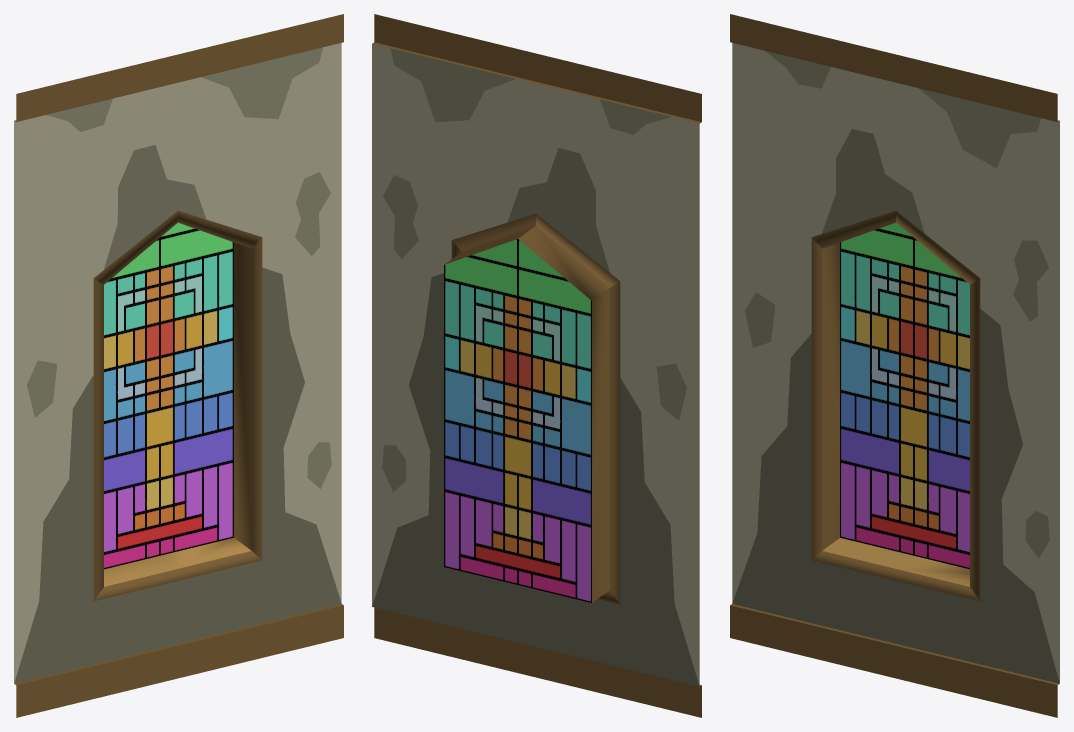
Rendered from AI_Env_Wall_Church_Window_Small_Burnt.fbx.
The picture shows the model from 3 angles, left to right: view 1: azimuth 30°, elevation 25°; view 2: azimuth 150°, elevation 25°; view 3: azimuth 330°, elevation 25°; orthographic projection.
Visible parts, largest first — view 1: AI_Env_Wall_Church_Window_Small_Burnt; view 2: AI_Env_Wall_Church_Window_Small_Burnt; view 3: AI_Env_Wall_Church_Window_Small_Burnt.
Boxes of the visible parts, x1,y1,x2,y2 form: AI_Env_Wall_Church_Window_Small_Burnt: [14, 14, 343, 717]; AI_Env_Wall_Church_Window_Small_Burnt: [372, 14, 701, 717]; AI_Env_Wall_Church_Window_Small_Burnt: [730, 14, 1059, 717].
Bounding box in the file's own units: 5 × 9.1 × 0.5299.
